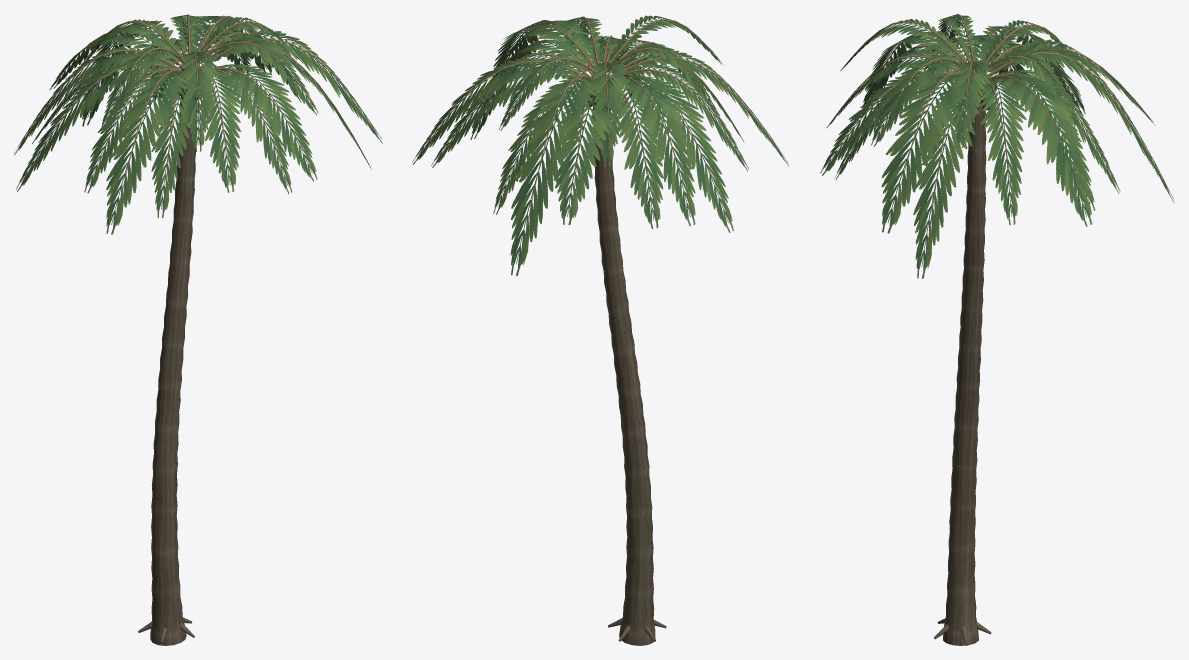
File: coconut_palm_tall.glb
The picture shows the model from 3 angles, left to right: view 1: azimuth 30°, elevation 25°; view 2: azimuth 150°, elevation 25°; view 3: azimuth 270°, elevation 25°; orthographic projection. The views are drawn at different scales.
Parts seen in each view (by area): view 1: coconut_palm_tall; view 2: coconut_palm_tall; view 3: coconut_palm_tall.
Boxes of the visible parts, <box> form: coconut_palm_tall: <box>14,14,382,645</box>; coconut_palm_tall: <box>412,15,788,645</box>; coconut_palm_tall: <box>820,14,1174,645</box>.
Bounding box in the file's own units: 5.2 × 9.6 × 5.
2 materials, 2 textured.
